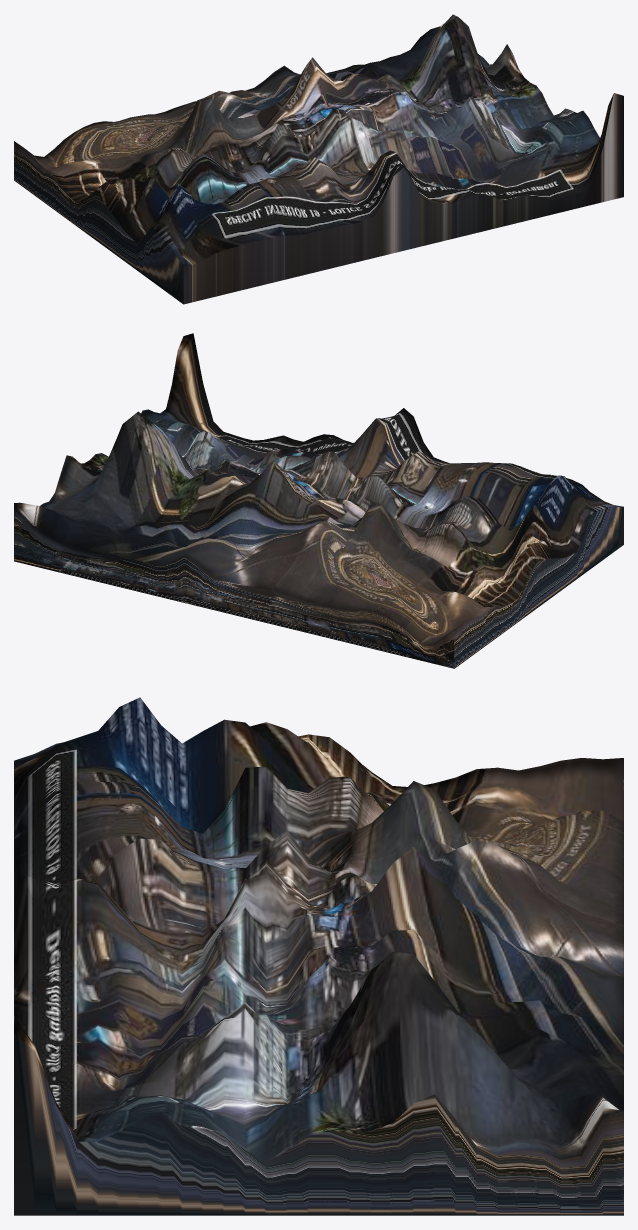
The model's file is SPECIAL_INT_19_Police_Station.glb.
3 renders of one model, top to bottom at view 1: azimuth 30°, elevation 25°; view 2: azimuth 150°, elevation 25°; view 3: azimuth 270°, elevation 25°, orthographic. The views are drawn at different scales.
Parts seen in each view (by area): view 1: SPECIAL_INT_19_Police_Station; view 2: SPECIAL_INT_19_Police_Station; view 3: SPECIAL_INT_19_Police_Station.
Part boxes in pixels (x1,y1,x2,y2): SPECIAL_INT_19_Police_Station: [14, 14, 623, 304]; SPECIAL_INT_19_Police_Station: [14, 333, 623, 668]; SPECIAL_INT_19_Police_Station: [14, 697, 623, 1215].
Bounding box in the file's own units: 2 × 0.51 × 1.33.
Materials: 1 (1 with a texture image).
